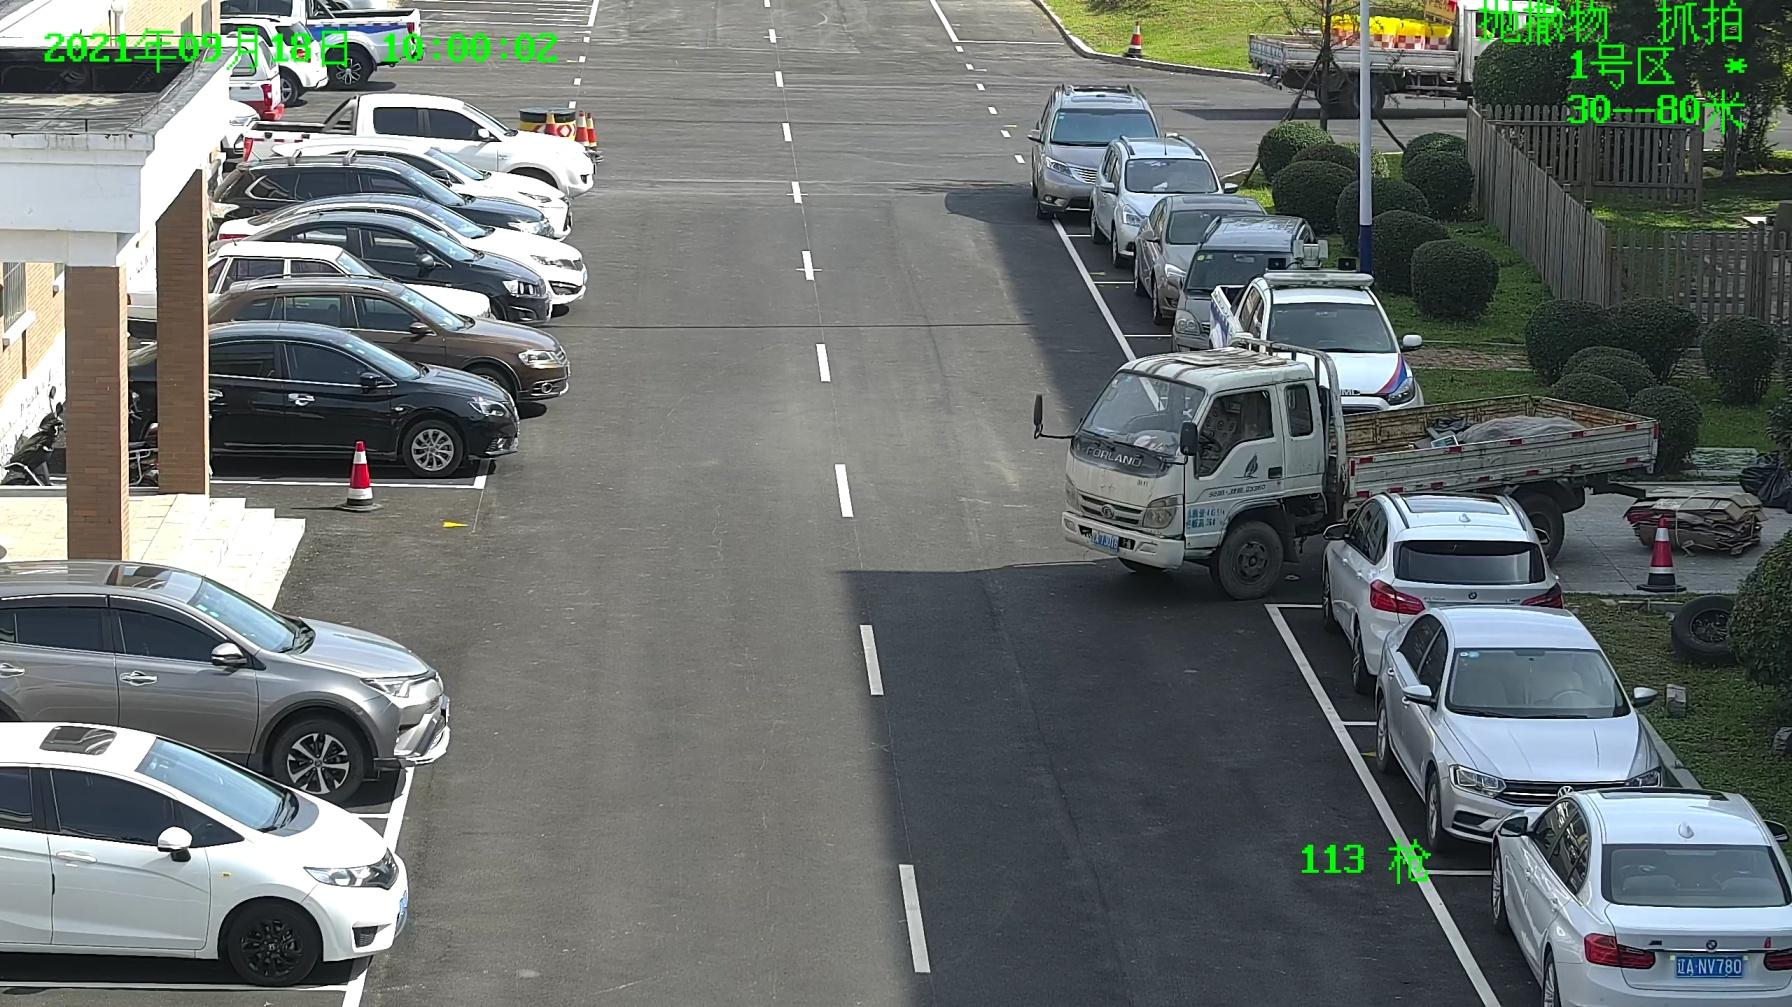cone_barrel: (1638, 511, 1684, 592), (336, 435, 378, 508), (571, 108, 588, 146), (1122, 22, 1142, 55), (585, 111, 596, 149), (540, 108, 556, 134)
